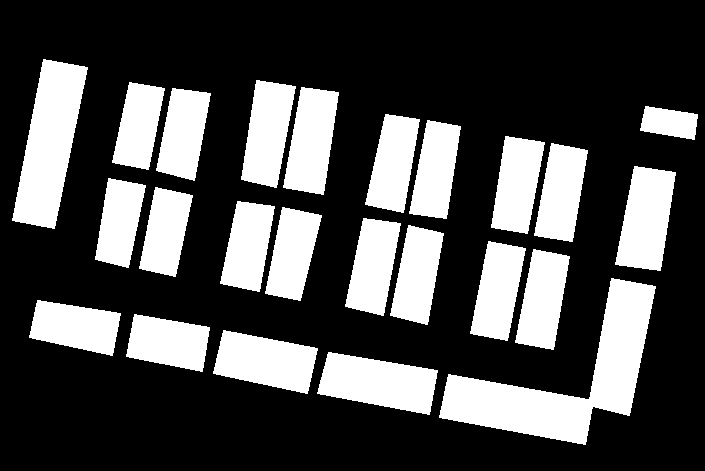parkingspot: (12, 59, 87, 228), (439, 373, 593, 444), (588, 277, 655, 415), (317, 351, 437, 414), (213, 329, 317, 393), (615, 165, 675, 270), (283, 87, 338, 194), (241, 80, 295, 187), (470, 240, 525, 340), (515, 248, 569, 349), (345, 217, 400, 315), (365, 113, 419, 212), (390, 224, 443, 324), (534, 142, 587, 241), (265, 207, 321, 300), (491, 135, 544, 233), (29, 299, 120, 355), (409, 119, 460, 218), (156, 88, 210, 180), (220, 201, 274, 291), (126, 313, 209, 371), (139, 187, 192, 276), (112, 82, 164, 169), (95, 178, 145, 267), (640, 106, 697, 139)
